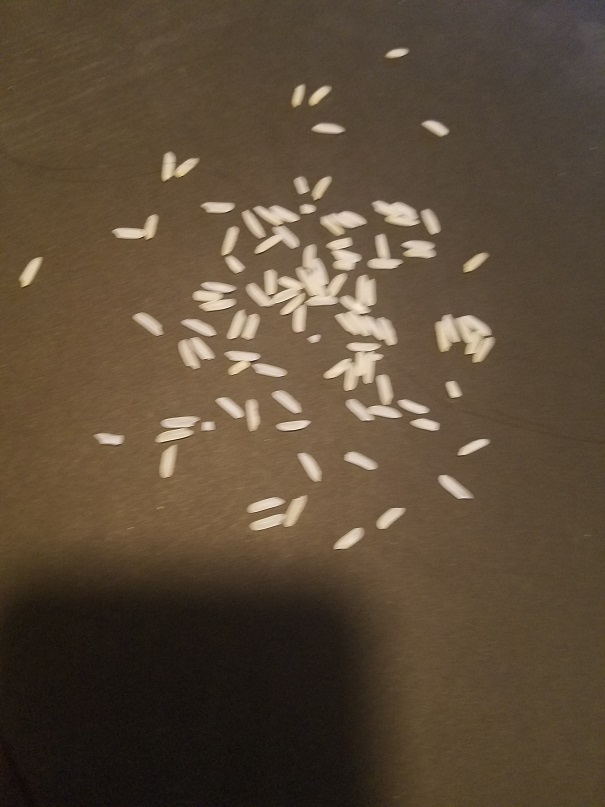egg: (16, 254, 46, 290), (436, 473, 476, 499), (282, 495, 309, 528), (272, 387, 305, 414), (332, 525, 364, 552), (131, 311, 165, 336), (248, 512, 288, 533), (340, 450, 380, 471), (297, 451, 323, 483), (224, 307, 248, 341), (240, 209, 267, 239), (214, 394, 245, 420), (279, 291, 309, 317), (375, 506, 406, 531), (244, 283, 275, 308), (188, 336, 216, 363), (345, 398, 375, 423), (471, 335, 496, 365), (459, 250, 490, 274), (245, 496, 286, 514), (153, 428, 196, 445), (177, 339, 201, 369), (455, 437, 491, 457), (171, 154, 201, 178), (252, 204, 284, 226), (158, 444, 177, 480), (321, 357, 352, 379), (462, 314, 493, 336), (252, 233, 284, 254), (272, 226, 301, 249), (244, 397, 262, 434), (251, 361, 288, 379), (179, 319, 218, 336), (441, 313, 462, 344), (420, 208, 443, 236), (419, 119, 451, 139), (375, 372, 393, 407), (377, 317, 398, 347), (220, 226, 241, 256), (198, 298, 237, 314), (348, 309, 371, 336), (366, 403, 402, 420), (397, 398, 431, 416), (267, 287, 303, 304), (269, 204, 301, 223), (159, 415, 202, 429), (326, 272, 349, 298), (340, 295, 373, 313), (199, 199, 236, 215), (409, 414, 441, 432), (371, 200, 403, 218), (336, 312, 359, 337), (221, 349, 262, 363), (311, 174, 333, 200), (434, 321, 451, 354), (240, 312, 260, 340), (295, 265, 314, 294), (308, 85, 333, 107), (160, 148, 176, 181), (292, 303, 309, 334), (321, 216, 346, 237), (263, 268, 281, 297), (361, 353, 377, 385), (92, 431, 126, 446), (274, 418, 313, 431), (373, 231, 391, 259), (110, 227, 148, 240), (455, 318, 474, 344), (363, 314, 382, 340), (307, 270, 326, 296), (367, 257, 405, 270), (304, 293, 341, 306), (464, 331, 484, 355), (143, 213, 160, 241), (199, 281, 238, 293), (310, 121, 346, 134), (227, 359, 254, 376), (391, 201, 418, 218), (290, 82, 308, 107), (345, 340, 382, 352), (223, 255, 246, 274), (342, 363, 357, 392), (384, 214, 420, 226), (333, 212, 358, 229), (329, 249, 364, 261), (443, 379, 465, 398), (355, 273, 368, 305), (312, 258, 328, 284), (325, 236, 354, 250), (364, 276, 377, 307), (402, 248, 438, 259), (276, 275, 306, 288), (191, 289, 226, 300), (400, 239, 438, 249), (292, 175, 311, 195), (303, 244, 318, 269), (342, 210, 367, 224), (332, 259, 357, 271), (354, 351, 365, 376), (386, 47, 411, 58), (298, 203, 318, 215), (202, 419, 216, 432), (307, 334, 321, 345), (370, 353, 384, 362)
